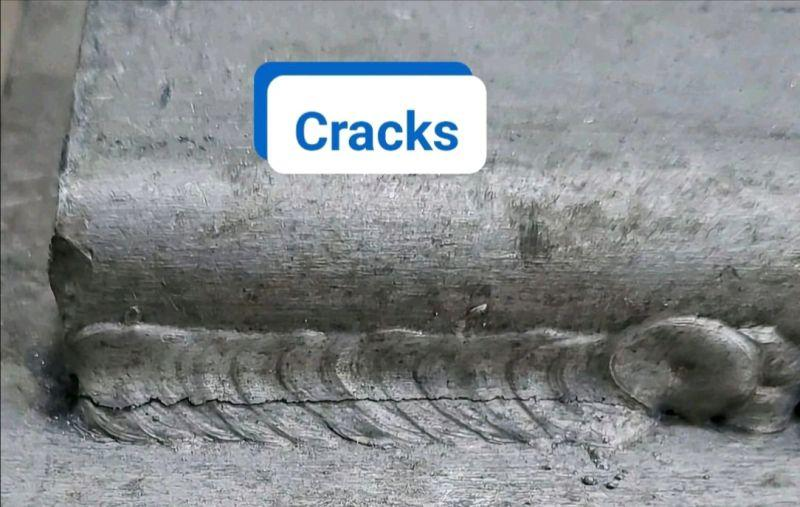crack: (53, 369, 616, 418)
